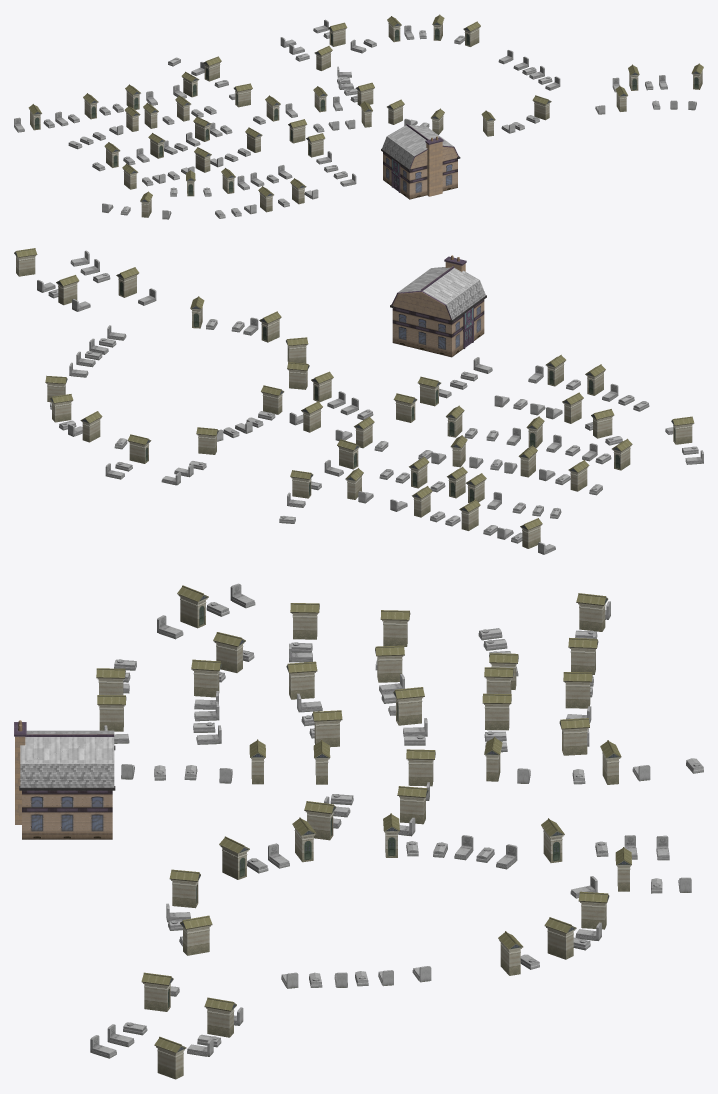
File: t1_b_cemetery.glb
3 views of the same model, one above another, from view 1: azimuth 30°, elevation 25°; view 2: azimuth 150°, elevation 25°; view 3: azimuth 270°, elevation 25° (orthographic). The views are drawn at different scales.
Parts seen in each view (by area): view 1: um_t1_b_cemetery_model_t1_b_cemetery_modelShape; view 2: um_t1_b_cemetery_model_t1_b_cemetery_modelShape; view 3: um_t1_b_cemetery_model_t1_b_cemetery_modelShape.
Part boxes in pixels (x1,y1,x2,y2): um_t1_b_cemetery_model_t1_b_cemetery_modelShape: [14, 14, 703, 219]; um_t1_b_cemetery_model_t1_b_cemetery_modelShape: [14, 248, 703, 554]; um_t1_b_cemetery_model_t1_b_cemetery_modelShape: [14, 583, 703, 1079].
Size of the model in its own units: 109 by 10.15 by 65.75.
6 materials, 6 textured.
